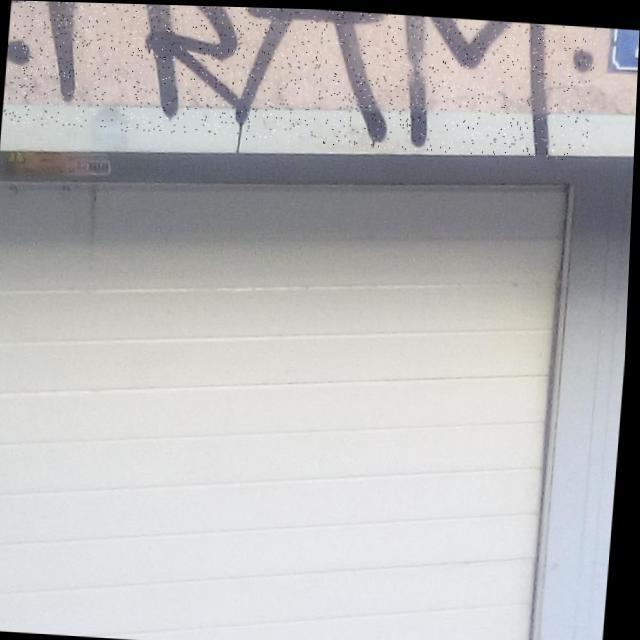-: (2, 0, 598, 157)
